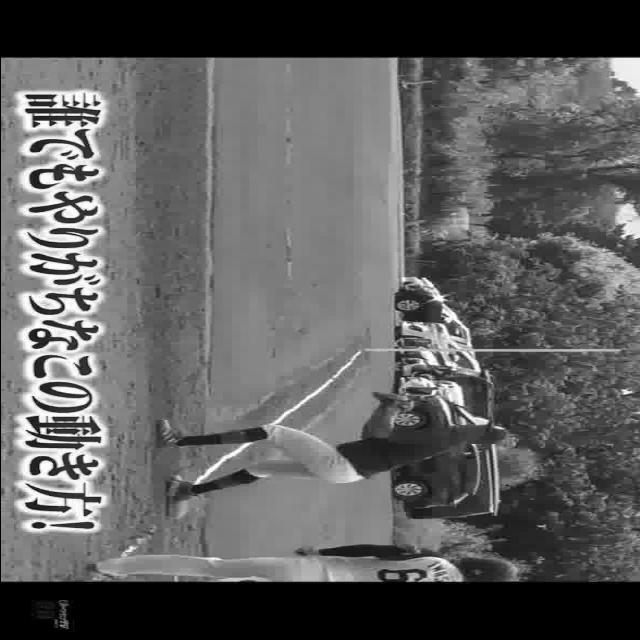base: (168, 464, 188, 520)
baseball_glove: (371, 390, 416, 410)
shoe: (150, 418, 181, 452), (166, 476, 197, 501), (88, 562, 128, 580)
